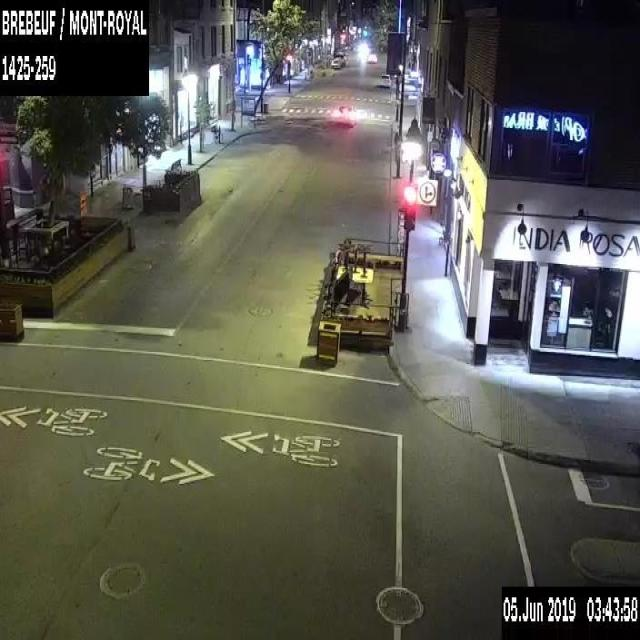construction: (79, 190, 87, 215)
vehicle: (333, 102, 356, 126), (329, 51, 345, 68), (376, 72, 392, 88), (364, 49, 376, 63)
